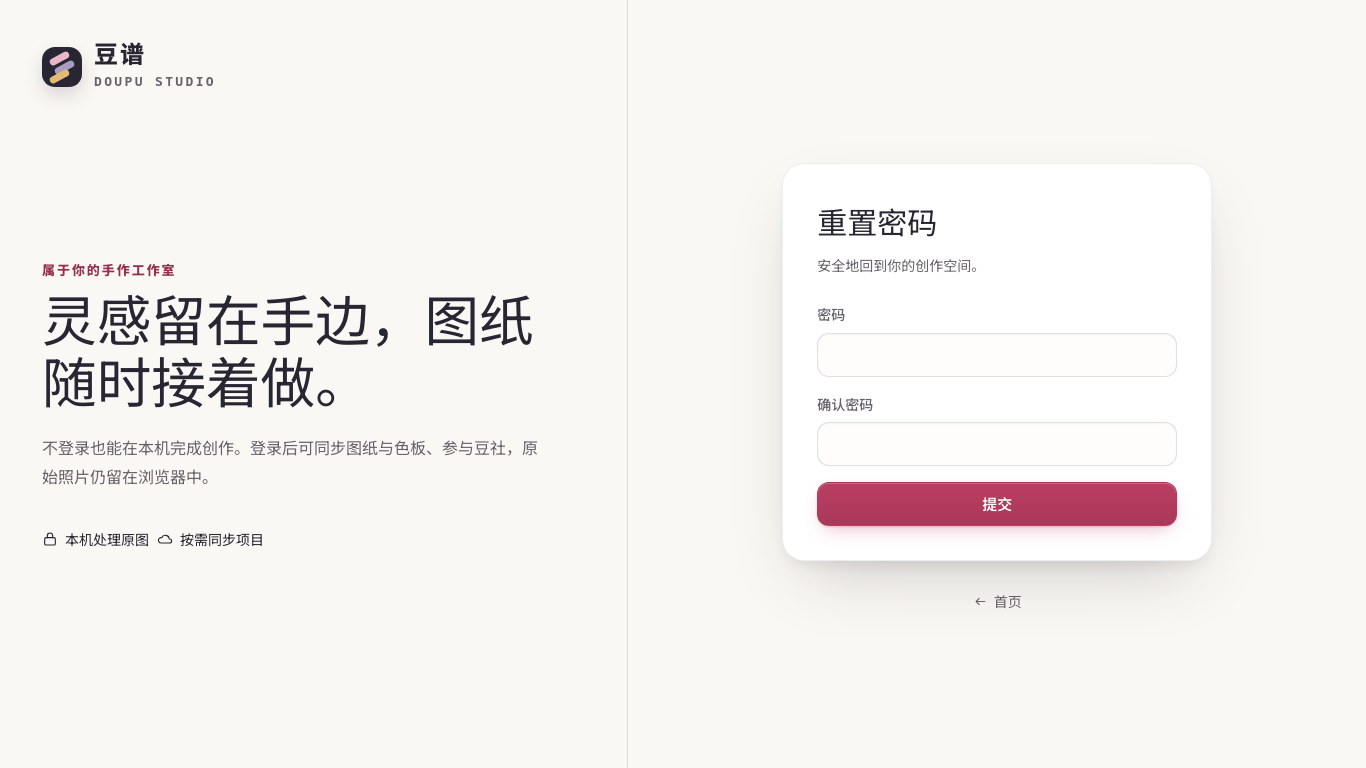
Test: reset-password 页 › 密码过短本地拦截（8–72 边界）
Type "short" into the password field labelled "密码" at (997, 355), box [817,333,1177,377]
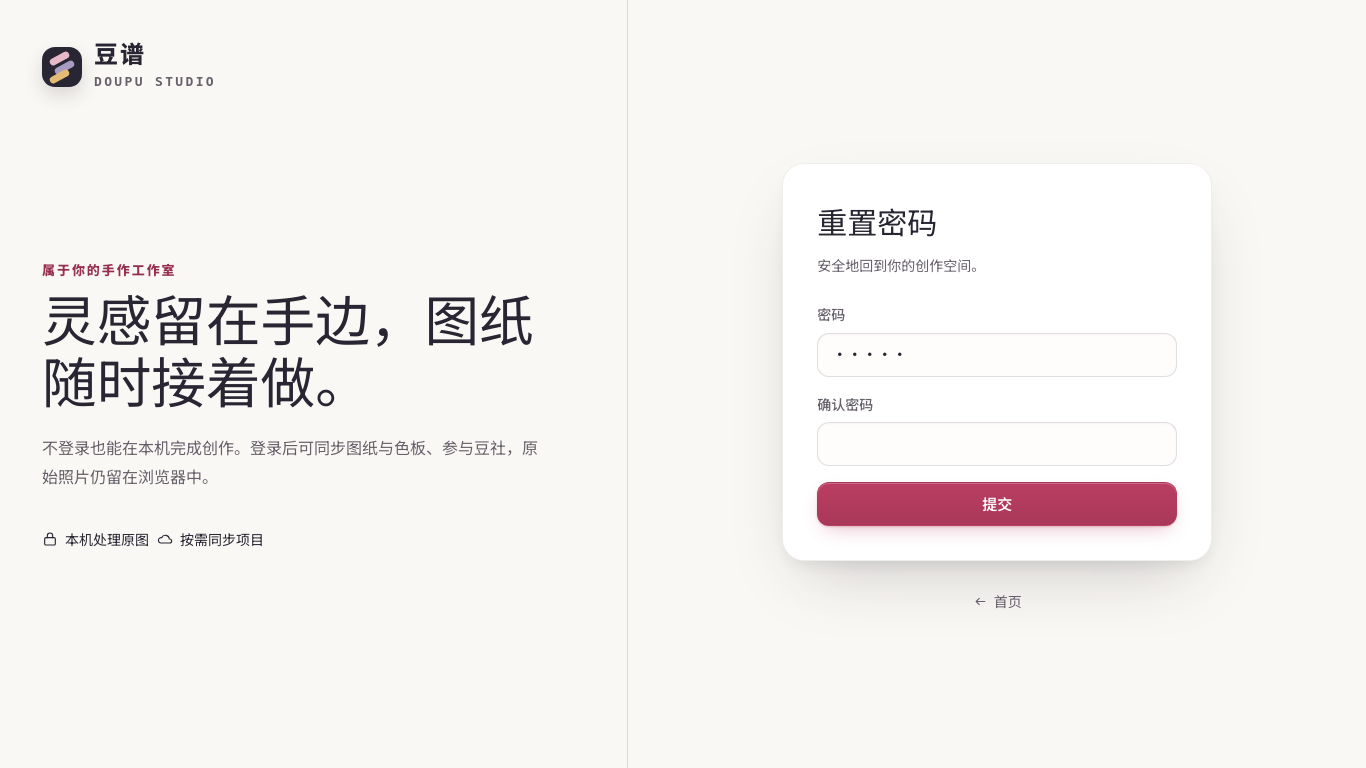
Type "short" into the password field labelled "确认密码" at (997, 444), box [817,422,1177,466]
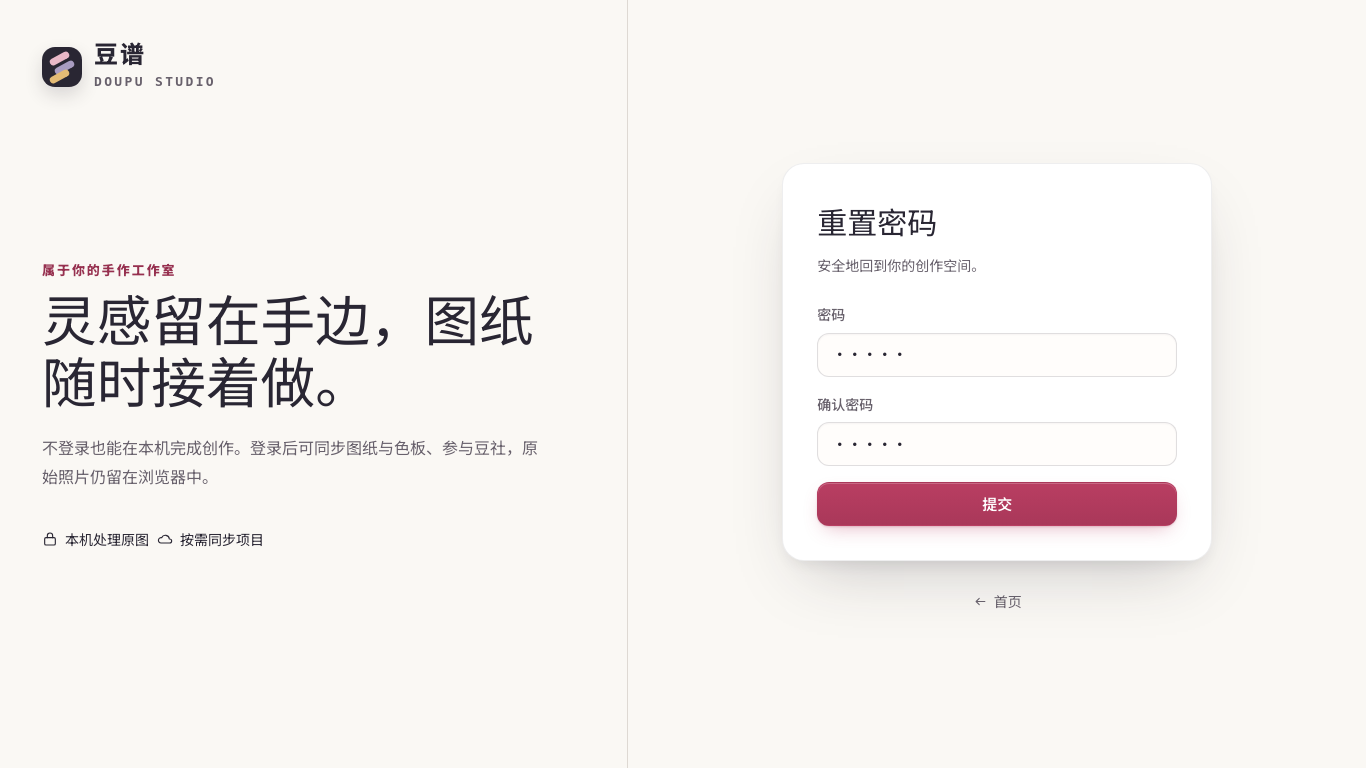
Click the button "提交" at (997, 504), box [817,482,1177,526]
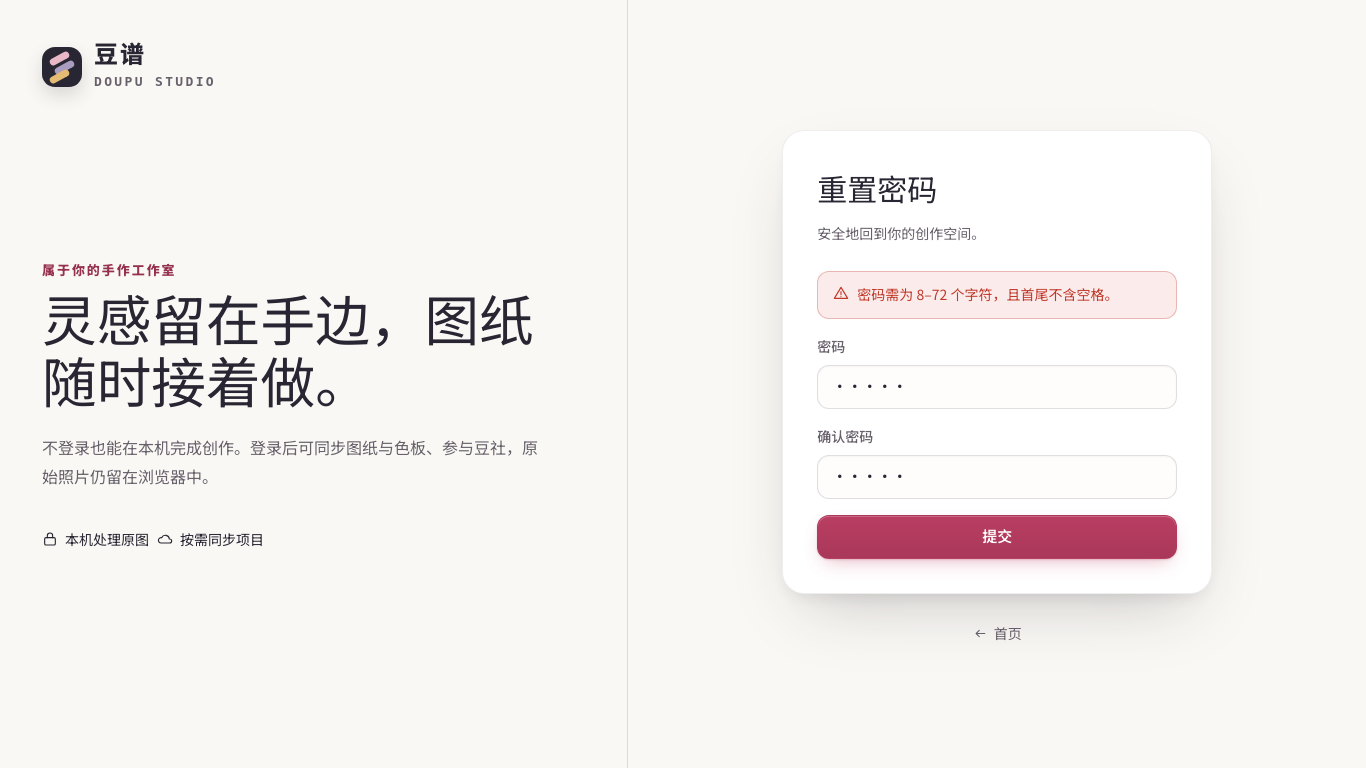
Check: the message "密码需为 8–72 个字符，且首尾不含空格。" is shown, box [817,271,1177,319]
